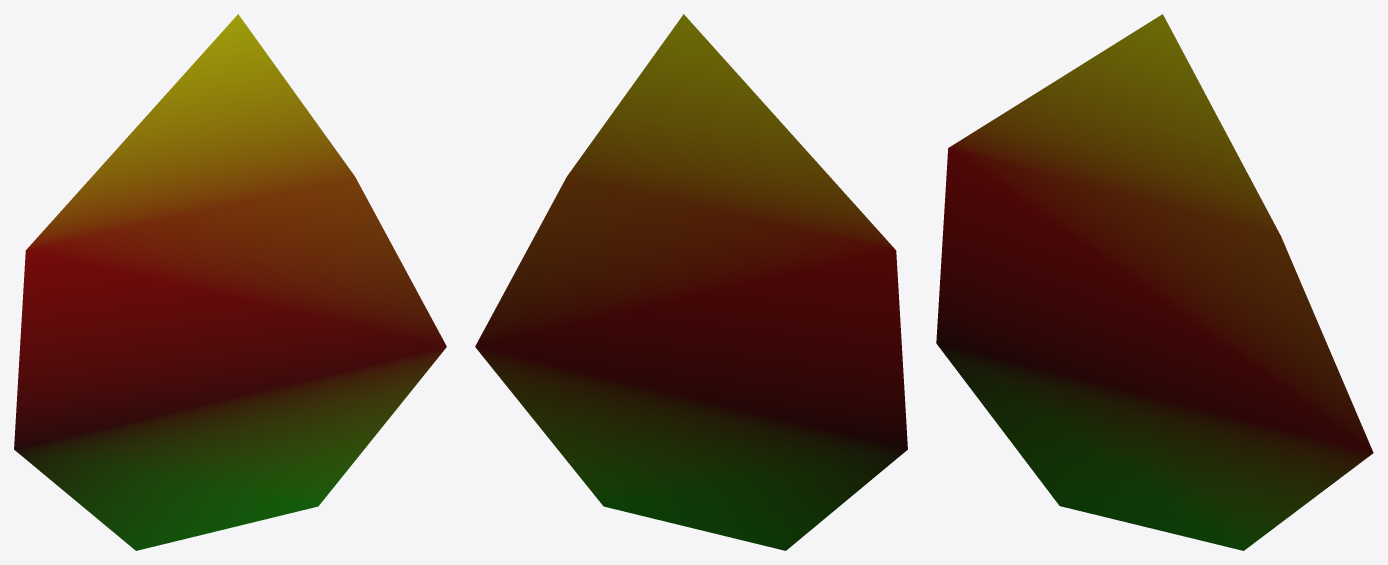
The model's file is tmjhcayia_Var3_LOD4.fbx.
3 renders of one model, left to right at view 1: azimuth 30°, elevation 25°; view 2: azimuth 150°, elevation 25°; view 3: azimuth 330°, elevation 25°, orthographic.
Visible parts, largest first — view 1: Var3_LOD4; view 2: Var3_LOD4; view 3: Var3_LOD4.
Part boxes in pixels (left/top/right/bottom): Var3_LOD4: left=14, top=14, right=446, bottom=550; Var3_LOD4: left=475, top=14, right=907, bottom=550; Var3_LOD4: left=936, top=14, right=1373, bottom=550.
Size of the model in its own units: 18.97 by 21.44 by 3.49e-06.
